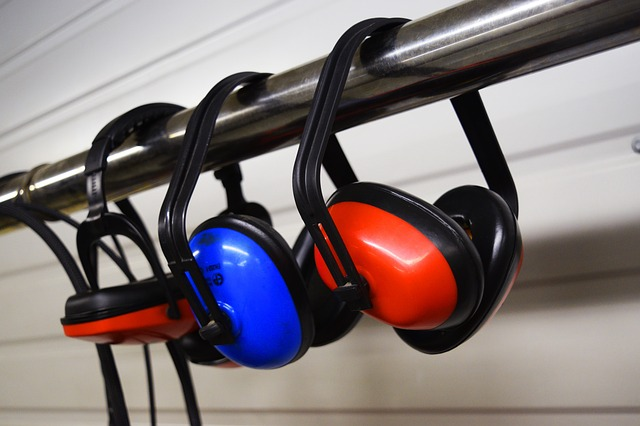headphones: (292, 18, 524, 355), (159, 73, 364, 370), (62, 103, 274, 369)
